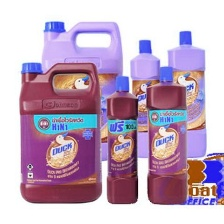cleaning_solution: (39, 16, 124, 165), (16, 58, 102, 205), (144, 64, 190, 207), (166, 29, 206, 161), (104, 73, 140, 206), (129, 35, 163, 160)
